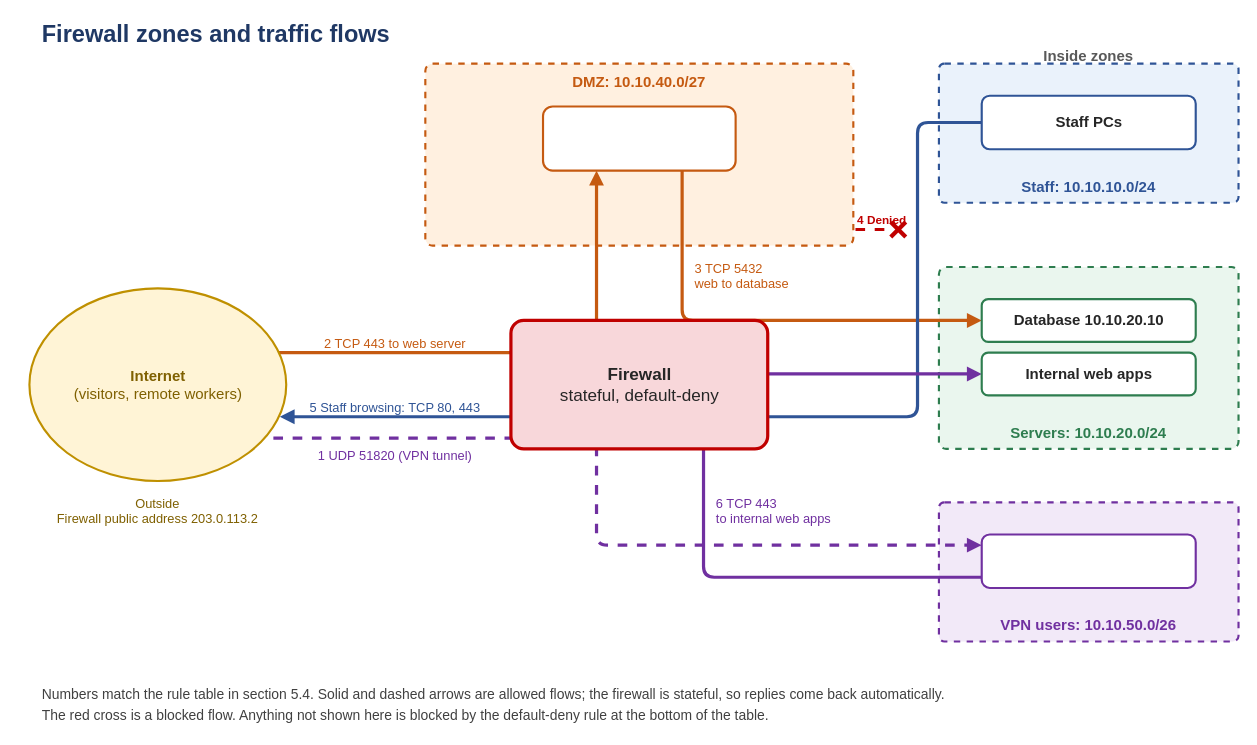
This 1257x745 diagram has some shape labels left out. Each missing label, with the centre of its shape:
Remote workers: (1088,560)
Web server 10.10.40.10: (638,138)
